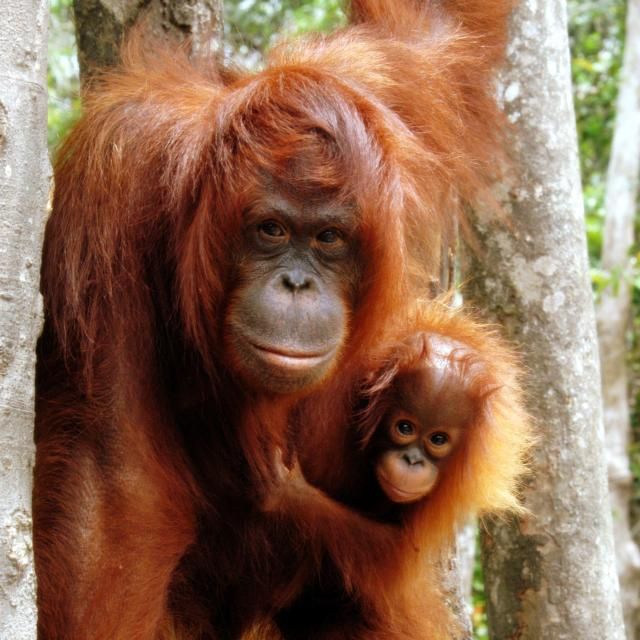Chimpanzee: (68, 31, 414, 472), (300, 289, 540, 622)
